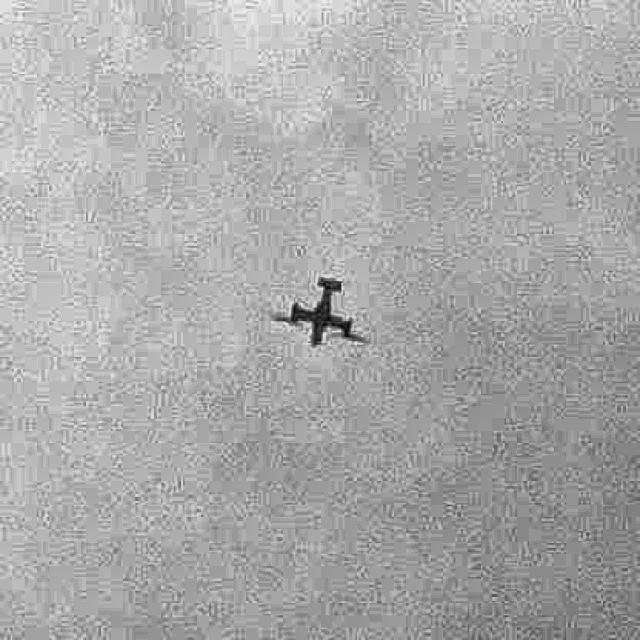V22: (273, 277, 365, 348)
